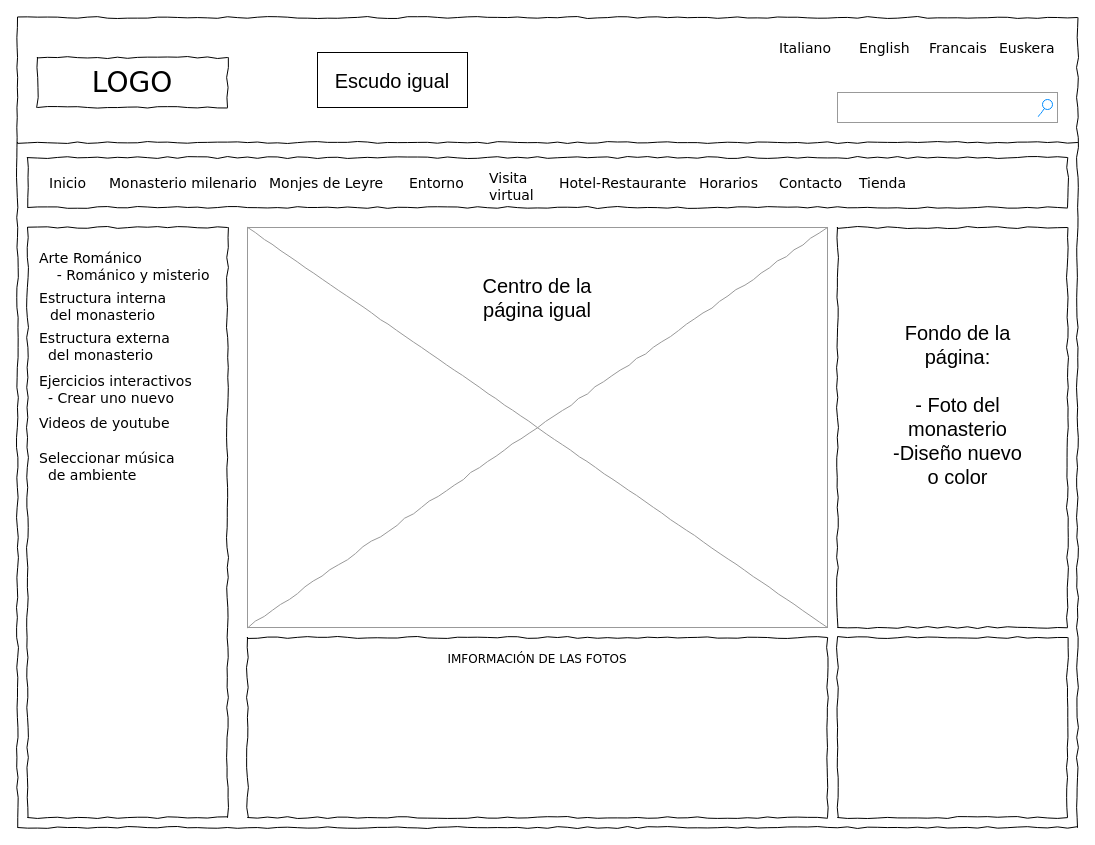
Some shapes in this 1095 by 845 pixel diagram are drawn without their labels. The shapes that lost their labels are listed below. From the top down, each one's centre as x and y in pixels, then its label:
At point (947, 107): "Search".
At point (952, 727): "Nombre de los autores".
